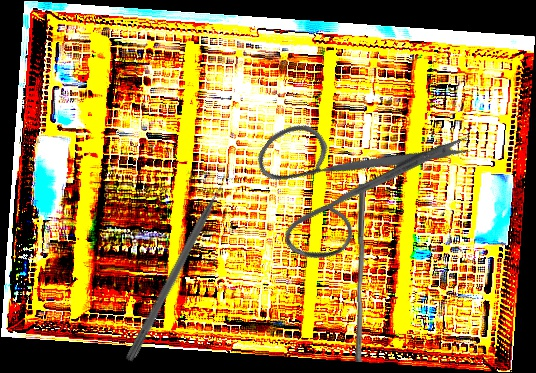Iris Scissors: (224, 42, 478, 302)
Pusher: (123, 167, 237, 365), (351, 183, 369, 363)
